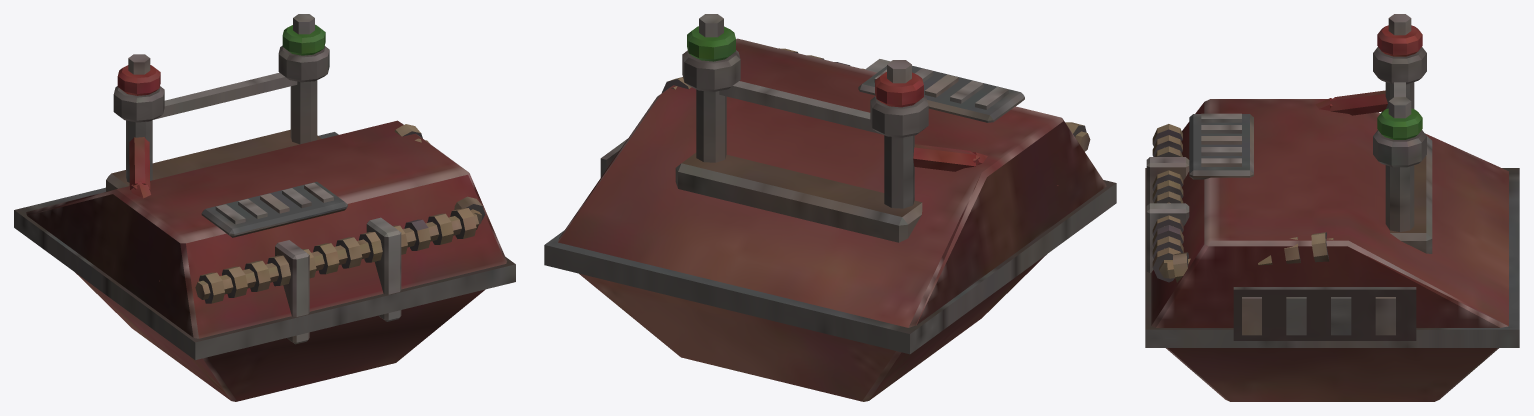
File: constant-combinator.glb
3 views of the same model, side by side, from view 1: azimuth 30°, elevation 25°; view 2: azimuth 150°, elevation 25°; view 3: azimuth 270°, elevation 25° (orthographic). The views are drawn at different scales.
Visible parts, largest first — view 1: body; view 2: body; view 3: body.
Part boxes in pixels (box(x1,y1,x2,y2)): body: box(14, 14, 515, 401); body: box(544, 14, 1116, 401); body: box(1145, 14, 1519, 401).
Size of the model in its own units: 0.956 by 0.81 by 0.923.
1 material, 1 textured.
